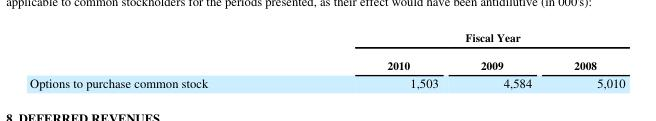table: (29, 29, 624, 90)
table column: (29, 29, 296, 90), (296, 29, 458, 90), (458, 29, 552, 90), (552, 29, 624, 90)
table column header: (29, 29, 624, 73)
table row: (29, 29, 624, 51), (29, 51, 624, 73), (29, 73, 624, 90)
table spanning cell: (296, 29, 624, 51)
